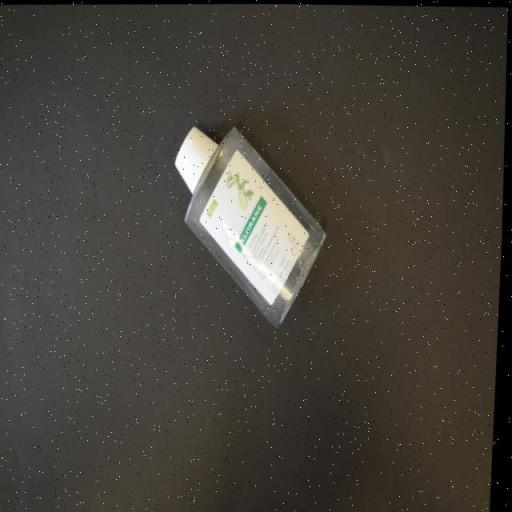plastic: (169, 120, 335, 332)
